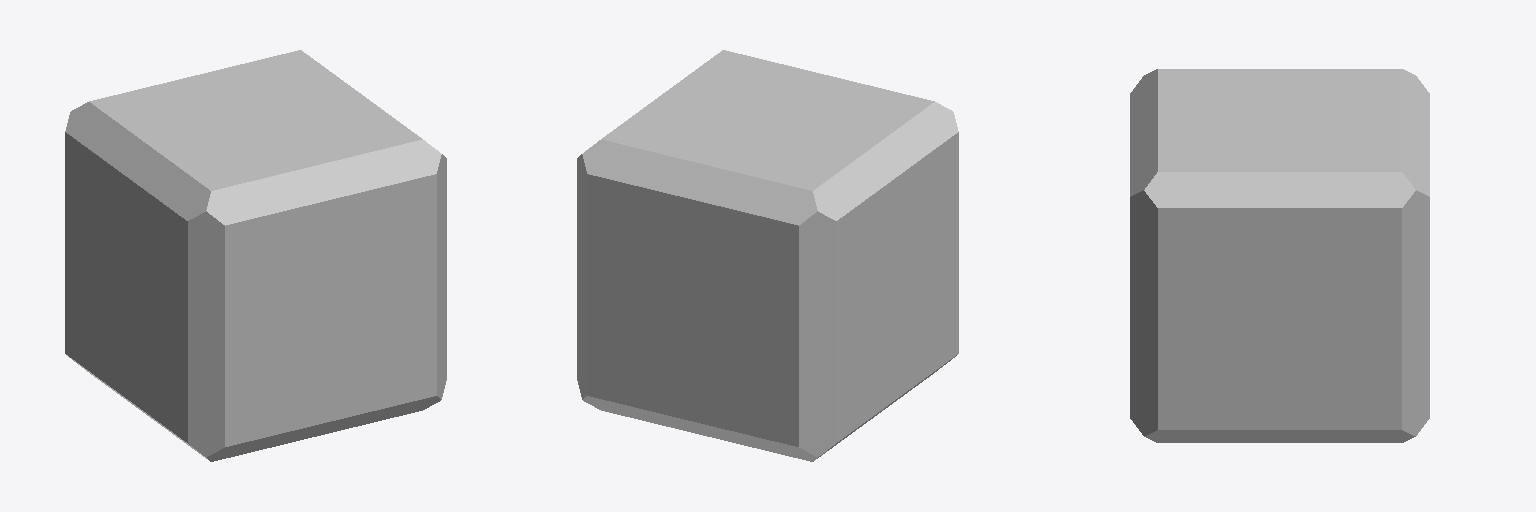
Rendered from single_block.obj.
The picture shows the model from 3 angles: view 1: azimuth 30°, elevation 25°; view 2: azimuth 150°, elevation 25°; view 3: azimuth 270°, elevation 25°; orthographic projection.
Parts seen in each view (by area): view 1: Cube; view 2: Cube; view 3: Cube.
Boxes of the visible parts, x1,y1,x2,y2 form: Cube: [65, 50, 446, 461]; Cube: [577, 50, 958, 461]; Cube: [1130, 69, 1429, 442].
Bounding box in the file's own units: 1.76 × 1.76 × 1.76.